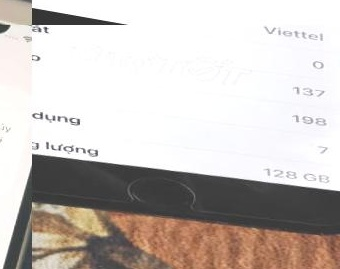scratch: (321, 101, 340, 221), (325, 57, 340, 95)
